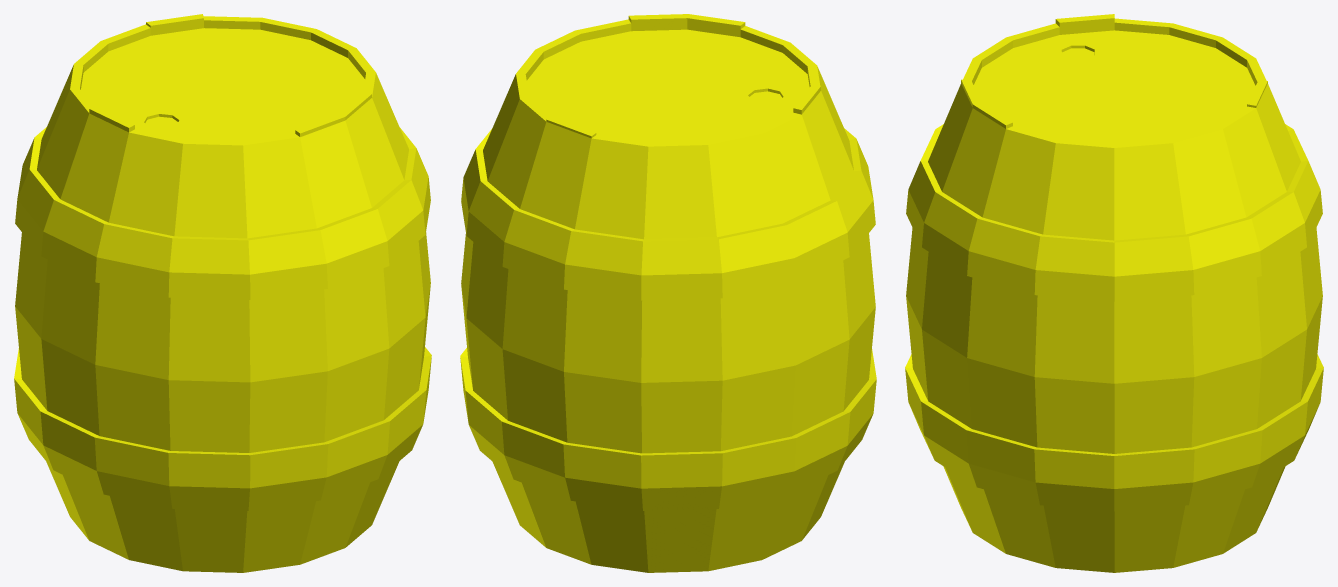
Rendered from Barrel.glb.
3 renders of one model, left to right at view 1: azimuth 30°, elevation 25°; view 2: azimuth 150°, elevation 25°; view 3: azimuth 270°, elevation 25°, orthographic.
Parts seen in each view (by area): view 1: Barrel; view 2: Barrel; view 3: Barrel.
Boxes of the visible parts, x1,y1,x2,y2 form: Barrel: (14, 14, 431, 572); Barrel: (460, 14, 876, 572); Barrel: (905, 14, 1323, 572).
Bounding box in the file's own units: 0.8933 × 1.01 × 0.8933.
2 materials, 2 textured.
